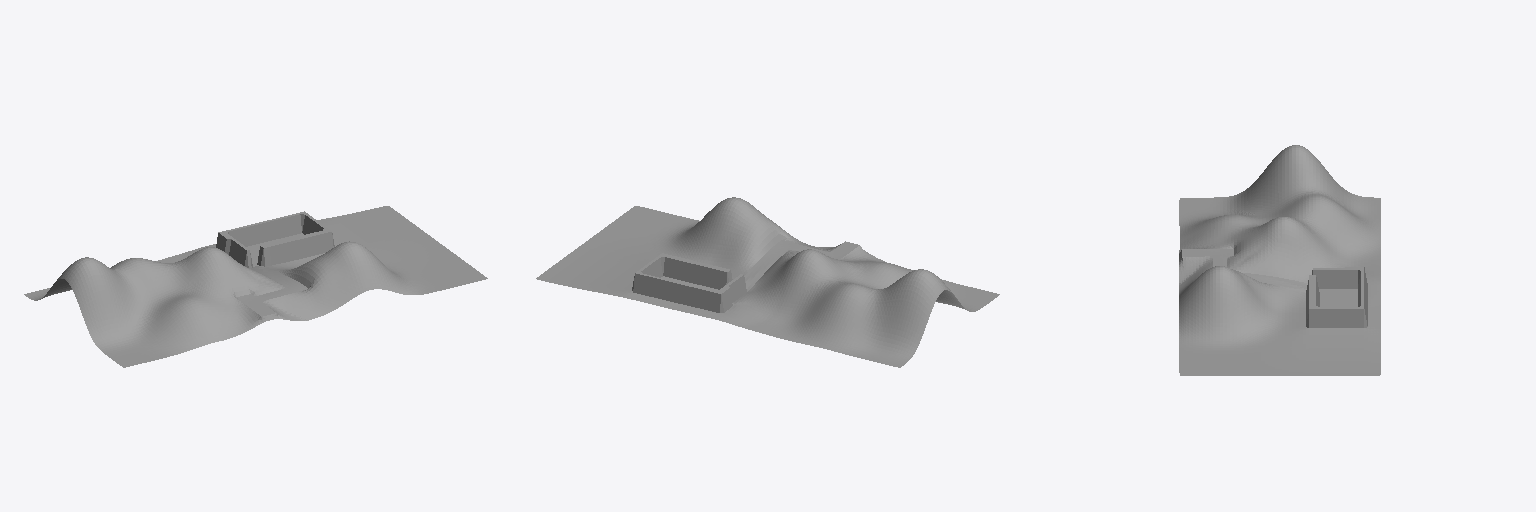
File: terrenoecasa.obj
3 views of the same model, side by side, from view 1: azimuth 30°, elevation 25°; view 2: azimuth 150°, elevation 25°; view 3: azimuth 270°, elevation 25° (orthographic).
Bounding box in the file's own units: 571 × 91.63 × 273.